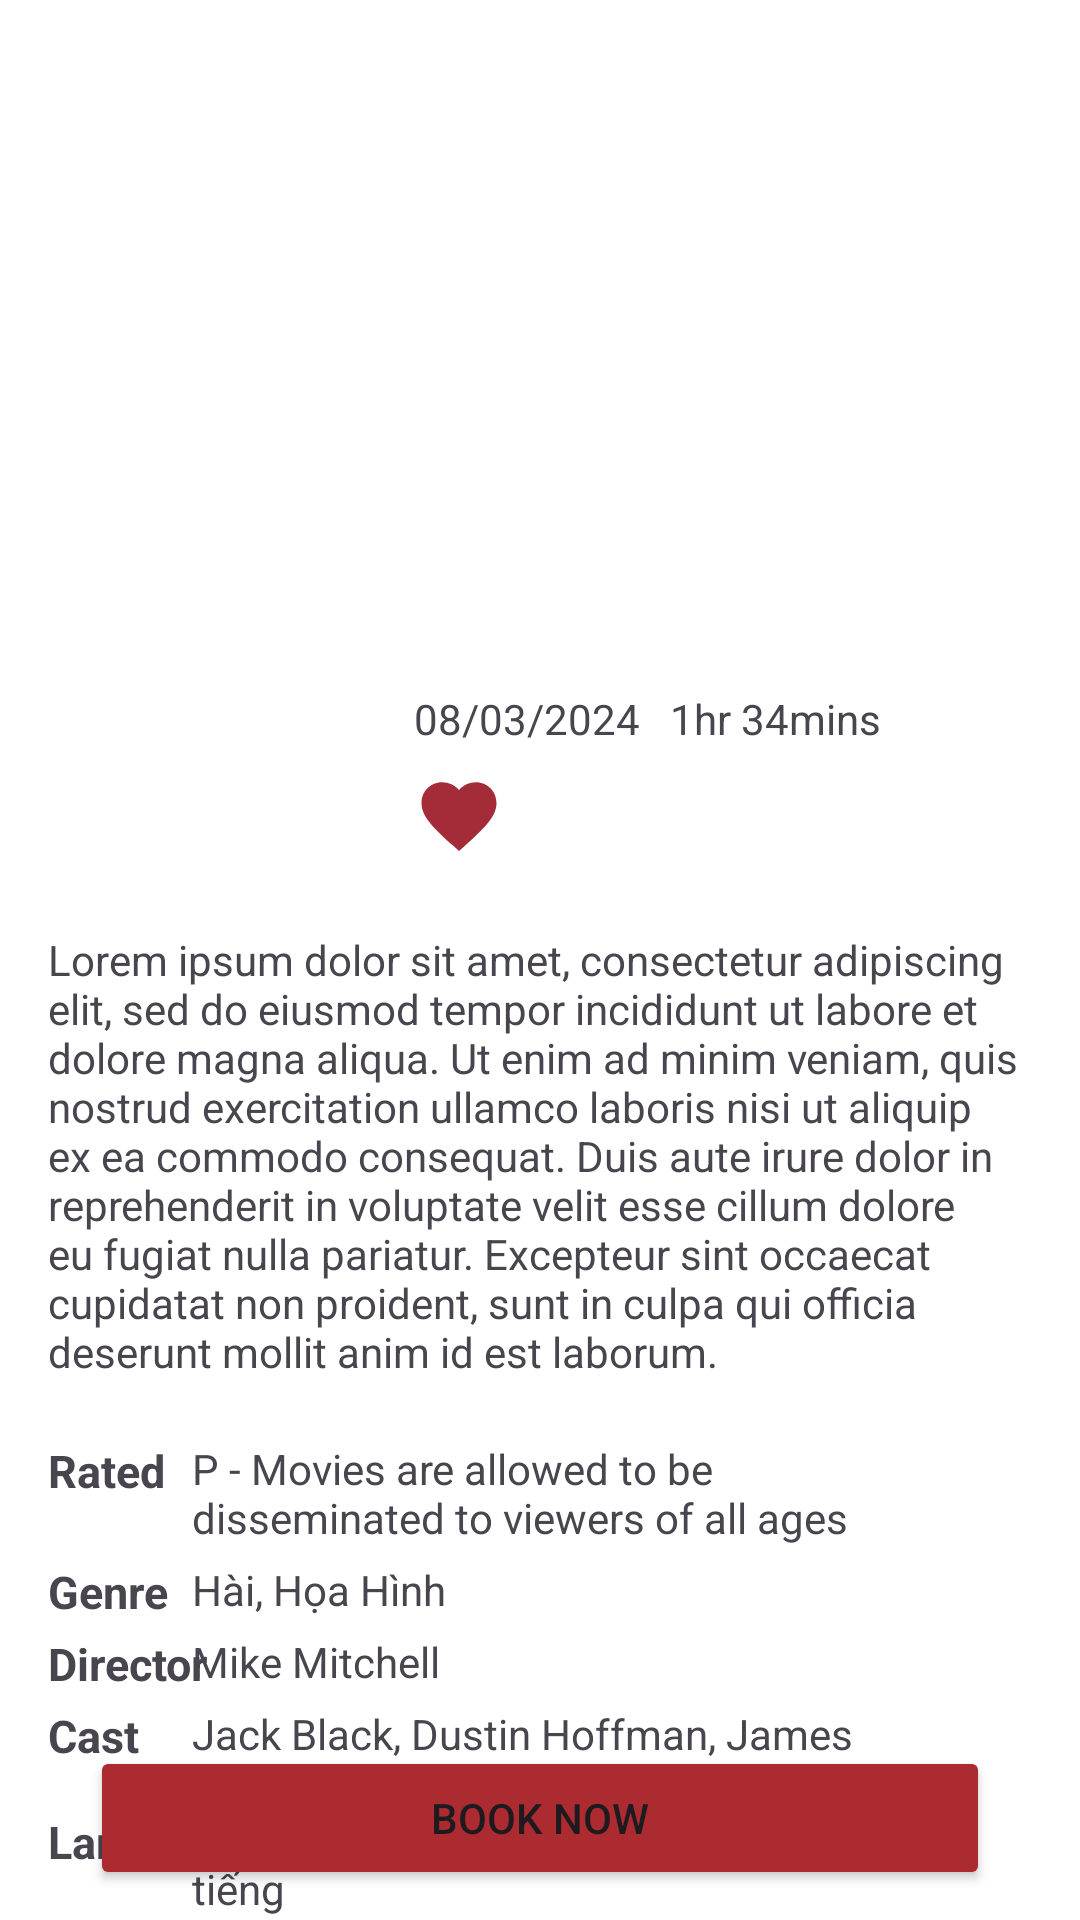

Where to tap for icons on this 1080w x 1920h app screen, as [x,y]:
heart: [459,816]
